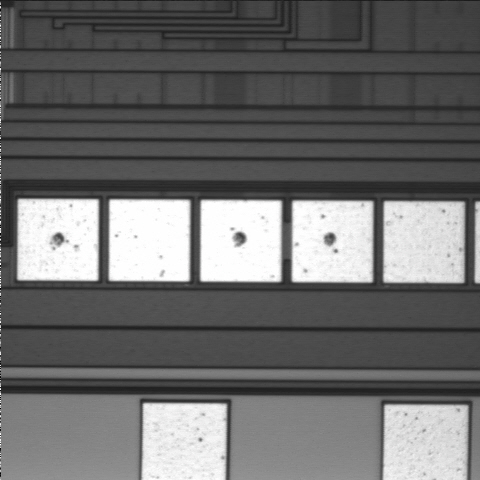pad: (17, 199, 99, 281), (200, 200, 282, 282), (109, 199, 190, 281), (383, 201, 464, 283), (292, 201, 373, 282)
